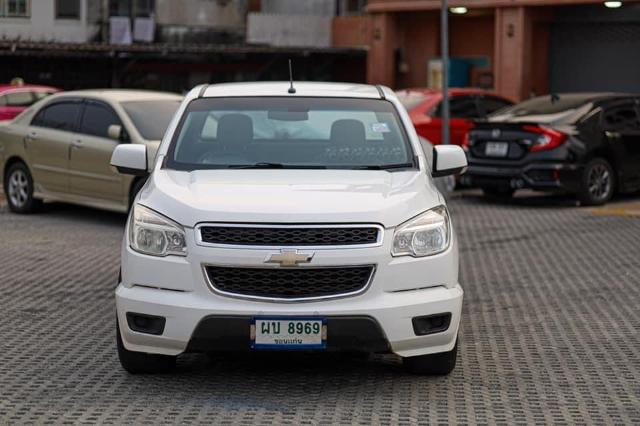pickup-truck: (105, 56, 480, 382)
